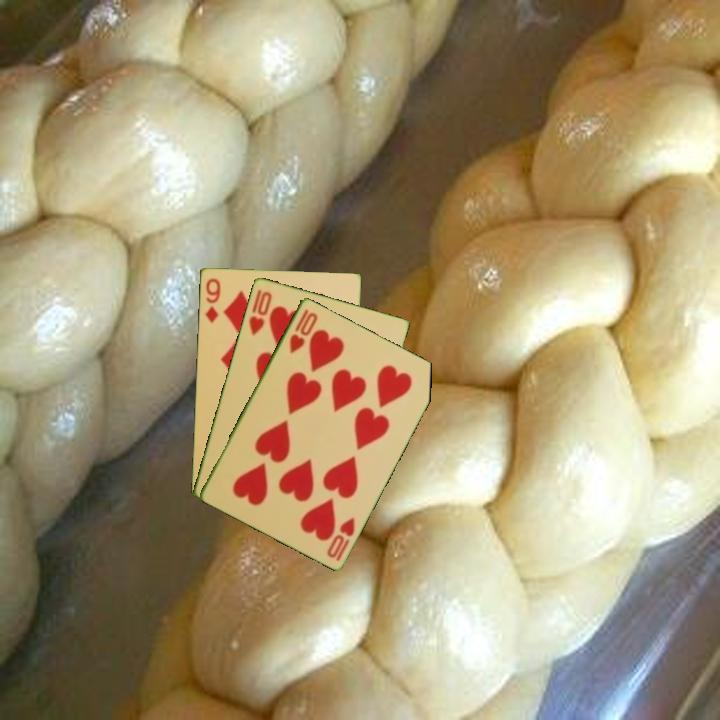10h: (286, 305, 321, 356), (323, 514, 358, 564), (245, 288, 275, 338)
9d: (201, 275, 223, 325)
